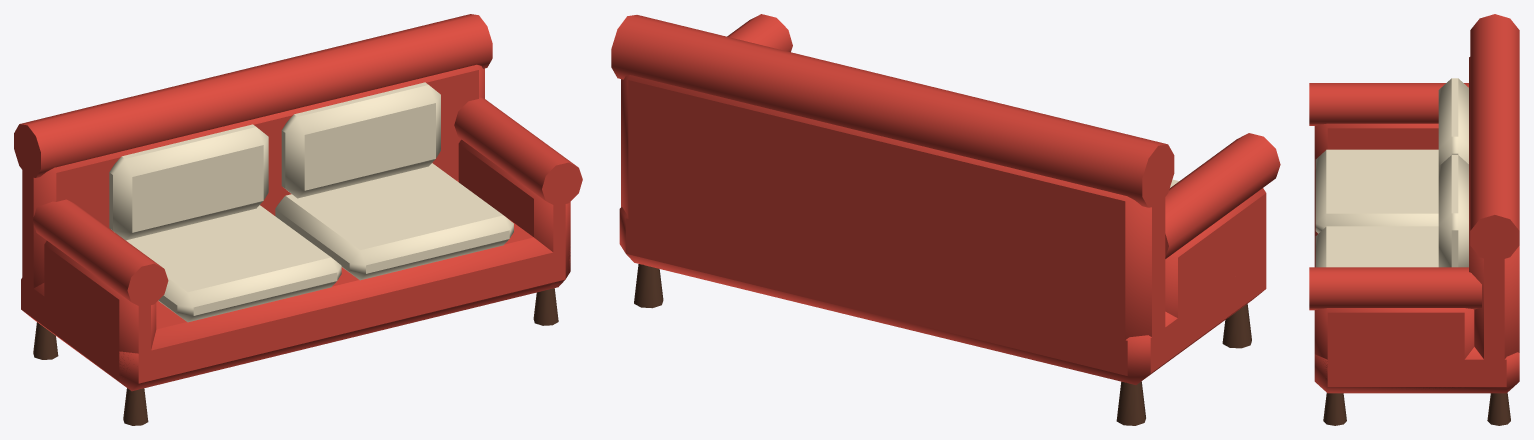
Rendered from sofa.glb.
The picture shows the model from 3 angles, left to right: view 1: azimuth 30°, elevation 25°; view 2: azimuth 150°, elevation 25°; view 3: azimuth 270°, elevation 25°; orthographic projection. The views are drawn at different scales.
Parts seen in each view (by area): view 1: sofa; view 2: sofa; view 3: sofa.
Part boxes in pixels (x1,y1,x2,y2): sofa: [14, 14, 582, 425]; sofa: [611, 14, 1280, 425]; sofa: [1309, 14, 1519, 425].
Bounding box in the file's own units: 2.22 × 1.1 × 0.975.
